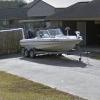Boat: (19, 27, 86, 59)
